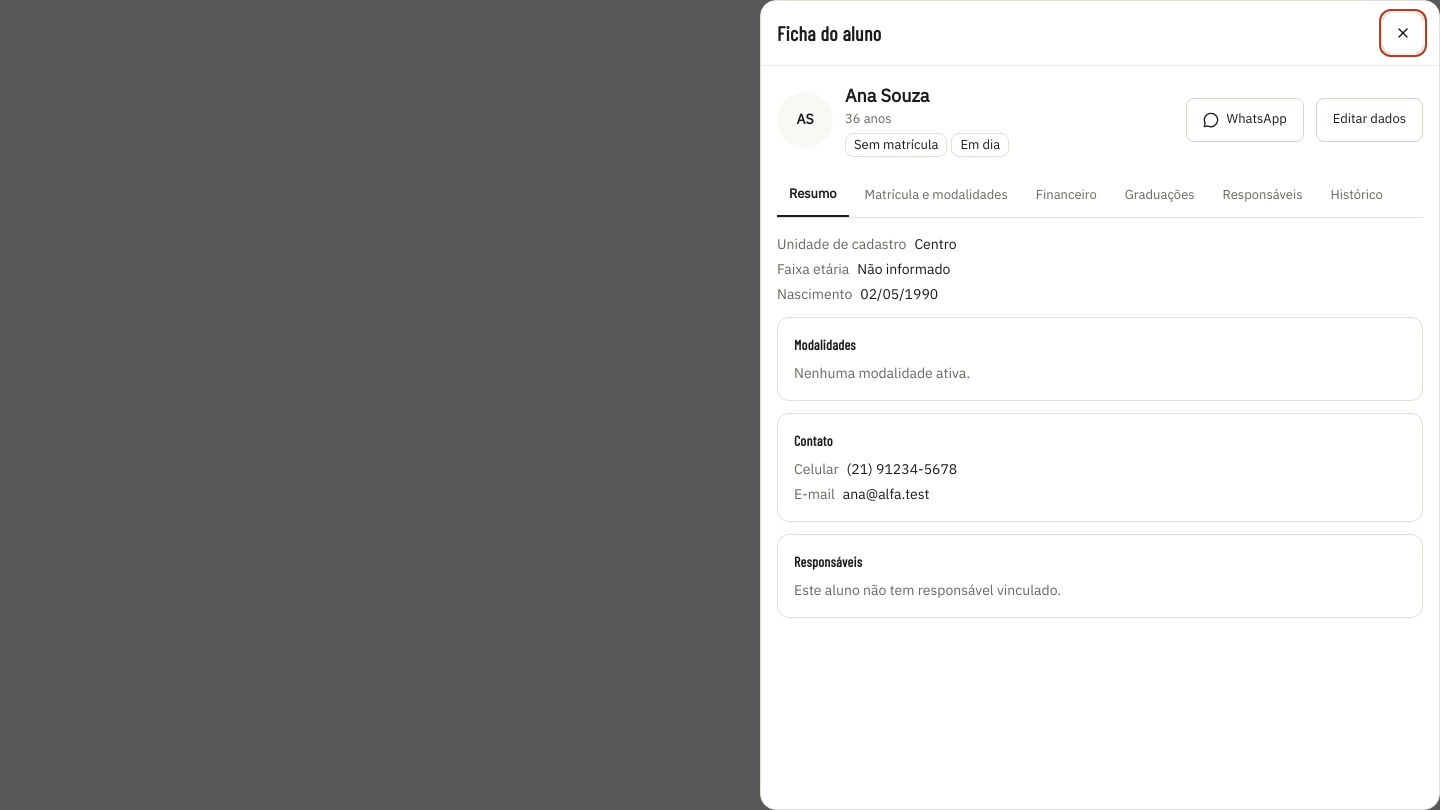
Test: aba Financeiro da ficha (RF-COB-02, R14) › CA20: sem cobranças mostra o estado vazio
The width and height of the screenshot is (1440, 810).
Click the tab "Financeiro": {"x": 1066, "y": 195} 1024,173 -> 1109,217
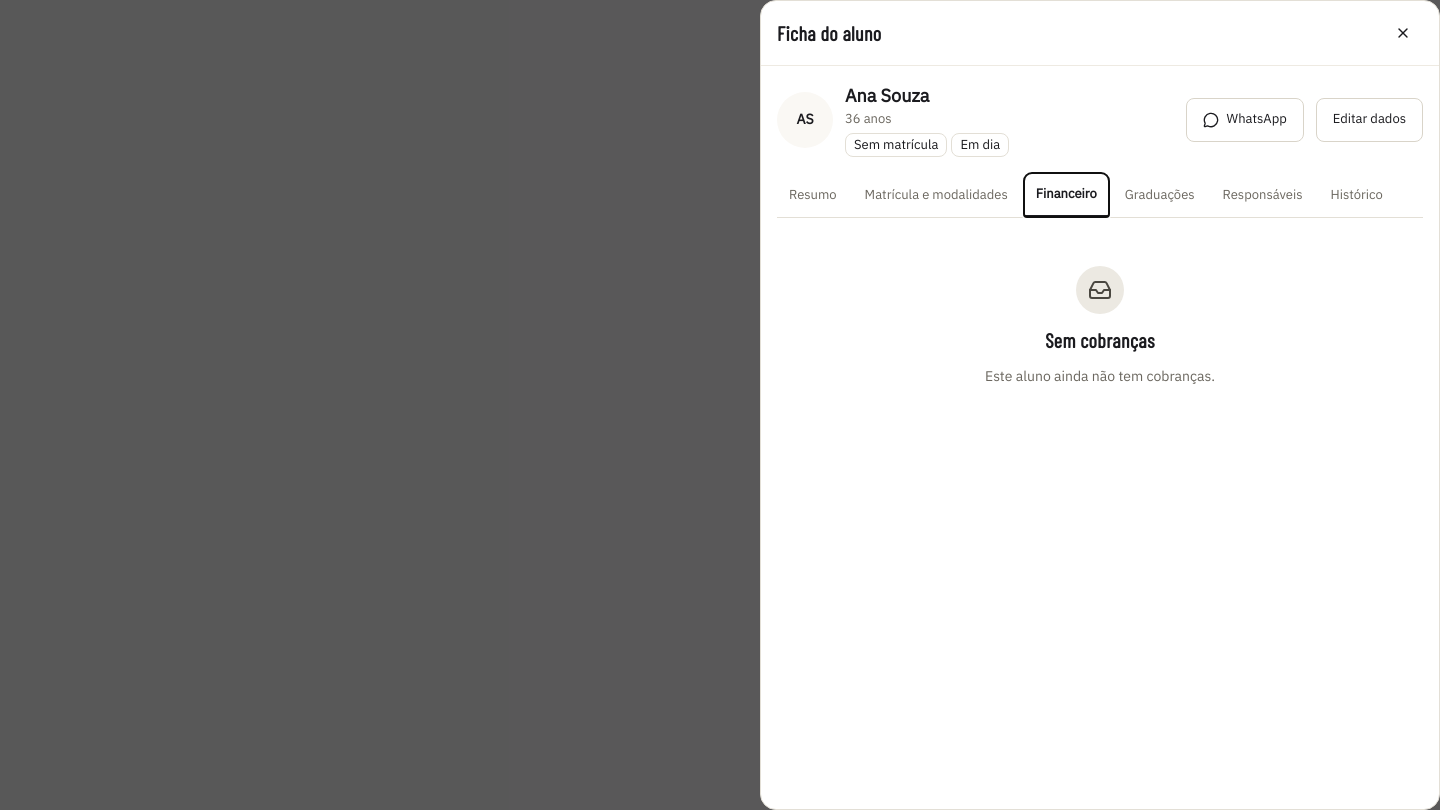
Expected: the text "Este aluno ainda não tem cobranças." is shown, 985,366 -> 1215,387
